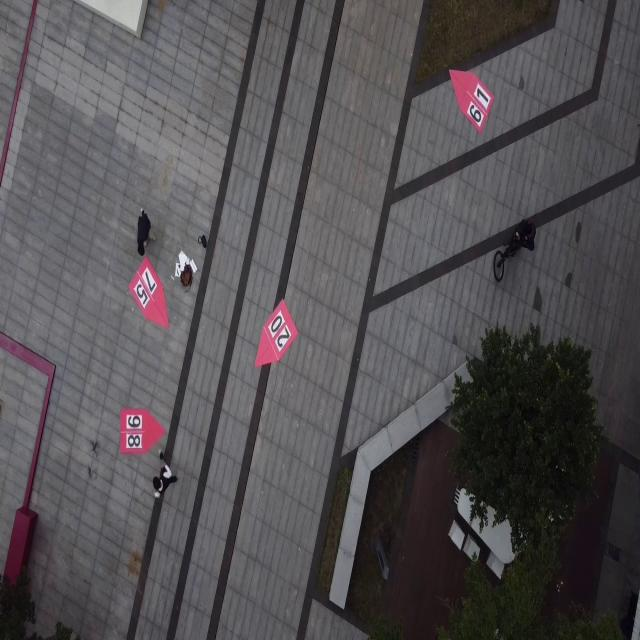-sign-: (254, 298, 298, 368), (128, 256, 170, 329), (448, 68, 492, 134), (120, 407, 165, 455)
